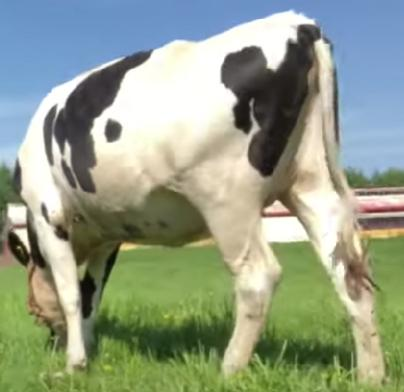cow: (9, 9, 385, 382)
